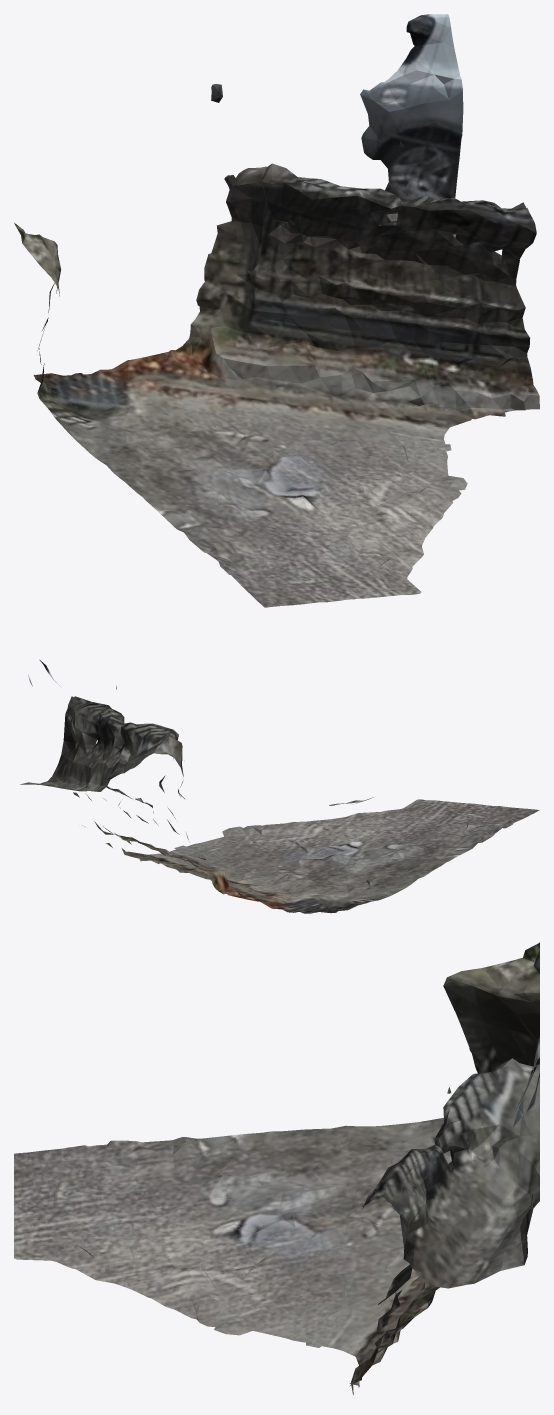
3 views of the same model, one above another, from view 1: azimuth 30°, elevation 25°; view 2: azimuth 150°, elevation 25°; view 3: azimuth 270°, elevation 25° (orthographic). The views are drawn at different scales.
Bounding box in the file's own units: 3.35 × 2.46 × 3.35.
Materials: 3 (3 with a texture image).
